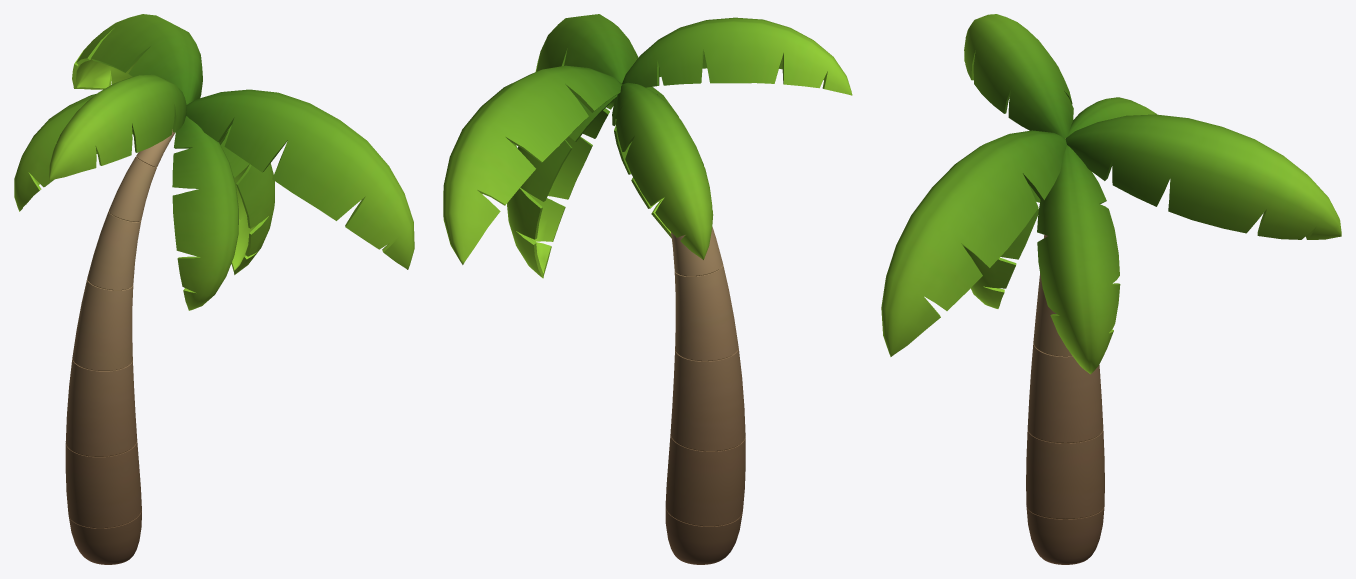
The model's file is Coconut.FBX.
3 views of the same model, side by side, from view 1: azimuth 30°, elevation 25°; view 2: azimuth 150°, elevation 25°; view 3: azimuth 270°, elevation 25° (orthographic). The views are drawn at different scales.
Parts seen in each view (by area): view 1: Cylinder001, Sphere004, Sphere003, Sphere005, Sphere007, Sphere001, Sphere006; view 2: Cylinder001, Sphere007, Sphere005, Sphere006, Sphere001, Sphere004, Sphere003; view 3: Sphere007, Sphere004, Cylinder001, Sphere001, Sphere005, Sphere003, Sphere006.
Part boxes in pixels (bbox=[...]): Cylinder001: bbox=[65, 129, 174, 564]; Sphere004: bbox=[186, 89, 414, 269]; Sphere003: bbox=[172, 116, 238, 310]; Sphere005: bbox=[49, 74, 186, 180]; Sphere007: bbox=[72, 14, 202, 104]; Sphere001: bbox=[219, 125, 274, 274]; Sphere006: bbox=[14, 94, 132, 211]; Cylinder001: bbox=[665, 227, 745, 564]; Sphere007: bbox=[443, 65, 622, 264]; Sphere005: bbox=[622, 17, 852, 95]; Sphere006: bbox=[614, 82, 713, 259]; Sphere001: bbox=[507, 94, 617, 278]; Sphere004: bbox=[535, 14, 638, 83]; Sphere003: bbox=[612, 87, 678, 237]; Sphere007: bbox=[1065, 114, 1341, 239]; Sphere004: bbox=[881, 130, 1066, 356]; Cylinder001: bbox=[1026, 138, 1104, 564]; Sphere001: bbox=[1037, 145, 1120, 374]; Sphere005: bbox=[964, 14, 1073, 138]; Sphere003: bbox=[962, 184, 1040, 308]; Sphere006: bbox=[1068, 97, 1156, 136].
Size of the model in its own units: 304 by 438 by 350.
